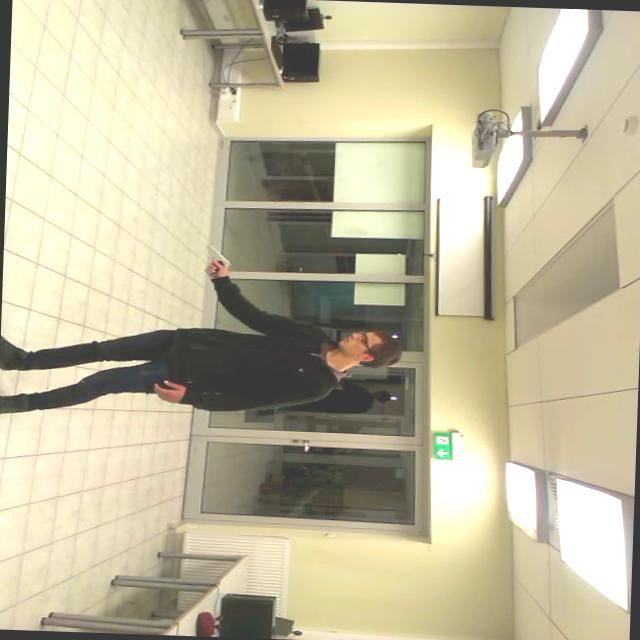handgun: (190, 237, 233, 280)
